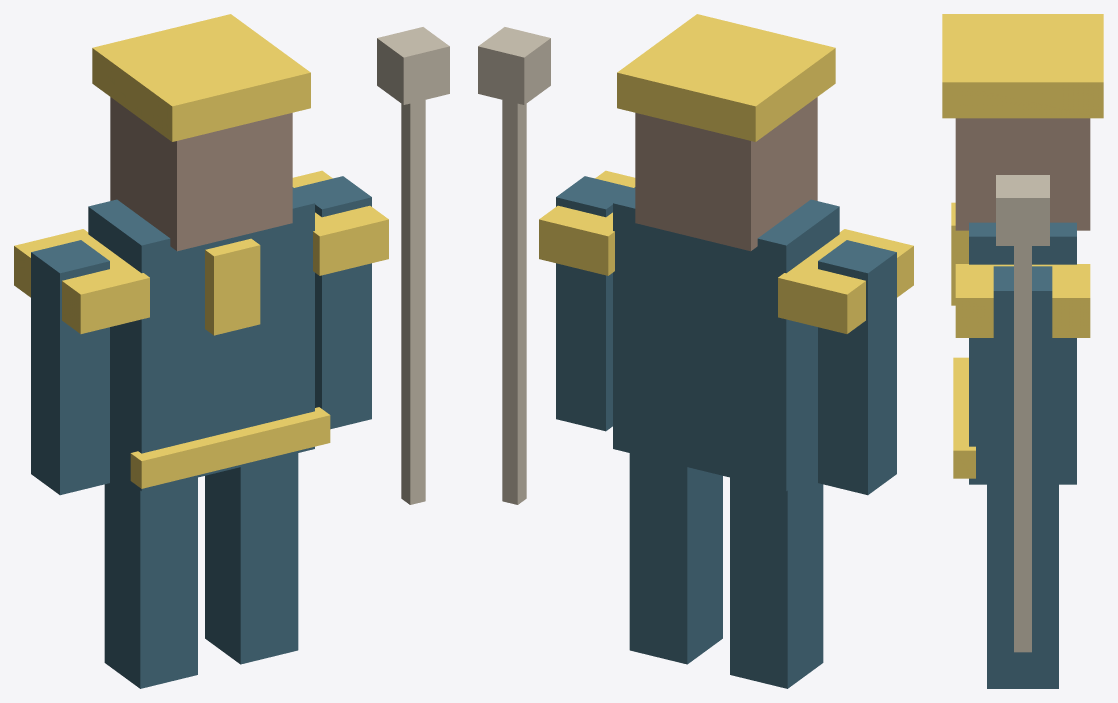
The model's file is 19_draven_signalborn_operator_under_pressure.glb.
3 views of the same model, side by side, from view 1: azimuth 30°, elevation 25°; view 2: azimuth 150°, elevation 25°; view 3: azimuth 270°, elevation 25° (orthographic).
Visible parts, largest first — view 1: Draven Signalborn, Operator under Pressure; view 2: Draven Signalborn, Operator under Pressure; view 3: Draven Signalborn, Operator under Pressure.
Boxes of the visible parts, left/top/right/bottom form: Draven Signalborn, Operator under Pressure: left=14, top=14, right=449, bottom=688; Draven Signalborn, Operator under Pressure: left=478, top=14, right=913, bottom=688; Draven Signalborn, Operator under Pressure: left=942, top=14, right=1103, bottom=688.
Size of the model in its own units: 1.06 by 1.55 by 0.3763.
